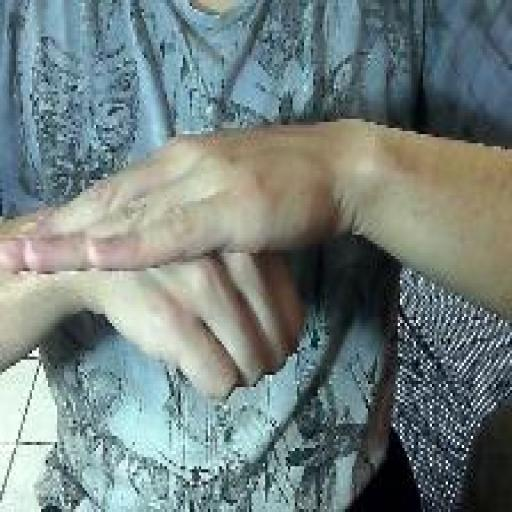Inu -dog-: (0, 123, 309, 407)
